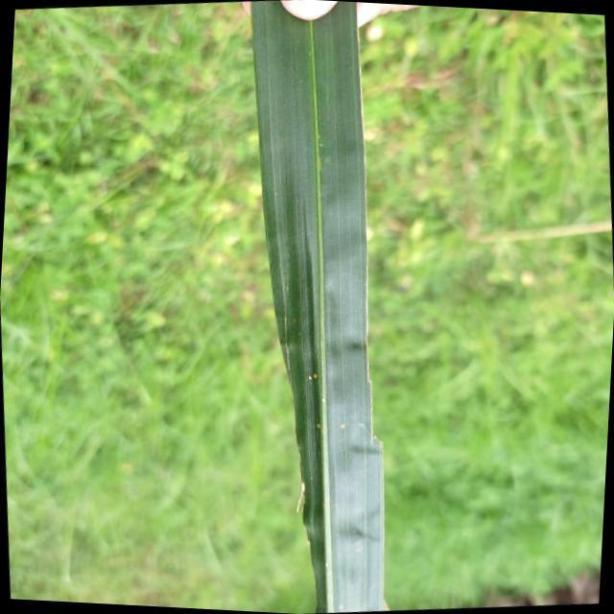Boron: (248, 0, 387, 614)
